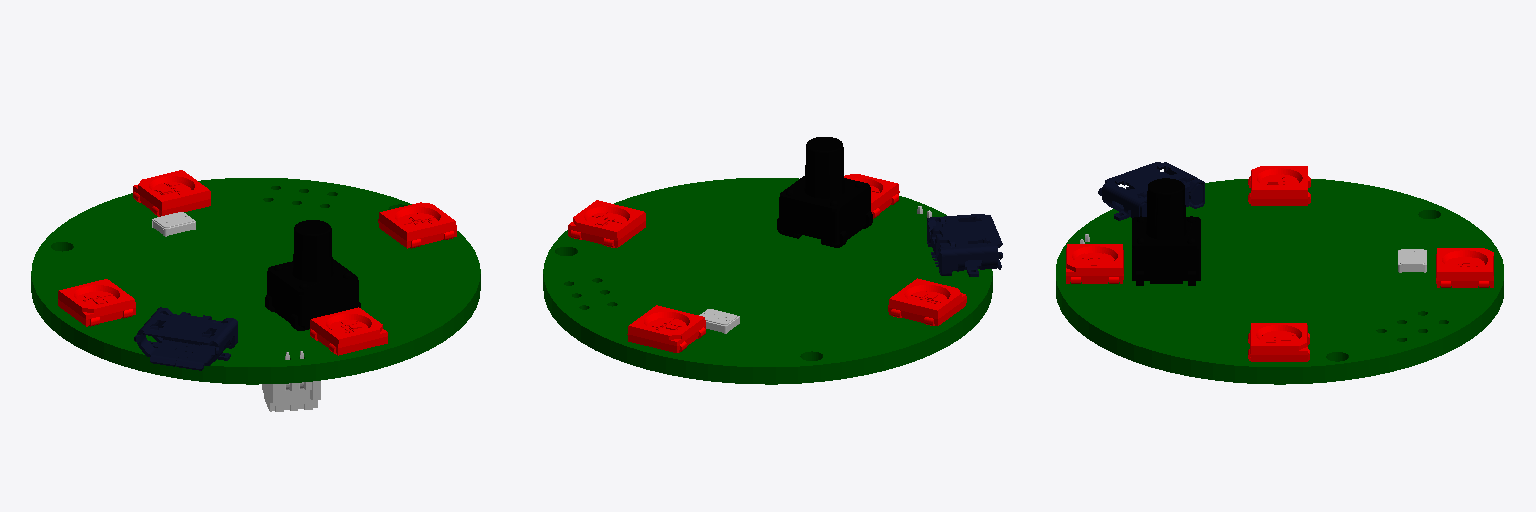
File: ESP.obj
3 renders of one model, left to right at view 1: azimuth 30°, elevation 25°; view 2: azimuth 150°, elevation 25°; view 3: azimuth 270°, elevation 25°, orthographic.
Visible parts, largest first — view 1: ESP_Acc_v1_-_Board_2-1_Open_CASCADE_STEP_translator_6.8_3.1.1_2, ESP_Acc_v1_-_S1_2-1_TL3301CFxxxxJ_2-1_Body1_2-1, ESP_Acc_v1_-_J2_2-1_[number redacted]_2-1, ESP_Acc_v1_-_D1_2-1_ws2812B-1_2-1, ESP_Acc_v1_-_D6_2-1_ws2812B-1_2-1, ESP_Acc_v1_-_D5_2-1_ws2812B-1_2-1, ESP_Acc_v1_-_D4_2-1_ws2812B-1_2-1, ESP_Acc_v1_-_BT1_2-1_[number redacted]_2-1_Open_CASCADE_STEP_translator, ESP_Acc_v1_-_X1_2-1_SMD_3225_Crystal_2-1; view 2: ESP_Acc_v1_-_Board_2-1_Open_CASCADE_STEP_translator_6.8_3.1.1_2, ESP_Acc_v1_-_S1_2-1_TL3301CFxxxxJ_2-1_Body1_2-1, ESP_Acc_v1_-_J2_2-1_[number redacted]_2-1, ESP_Acc_v1_-_D4_2-1_ws2812B-1_2-1, ESP_Acc_v1_-_D5_2-1_ws2812B-1_2-1, ESP_Acc_v1_-_D1_2-1_ws2812B-1_2-1, ESP_Acc_v1_-_D6_2-1_ws2812B-1_2-1, ESP_Acc_v1_-_X1_2-1_SMD_3225_Crystal_2-1; view 3: ESP_Acc_v1_-_Board_2-1_Open_CASCADE_STEP_translator_6.8_3.1.1_2, ESP_Acc_v1_-_S1_2-1_TL3301CFxxxxJ_2-1_Body1_2-1, ESP_Acc_v1_-_J2_2-1_[number redacted]_2-1, ESP_Acc_v1_-_D1_2-1_ws2812B-1_2-1, ESP_Acc_v1_-_D5_2-1_ws2812B-1_2-1, ESP_Acc_v1_-_D6_2-1_ws2812B-1_2-1, ESP_Acc_v1_-_D4_2-1_ws2812B-1_2-1, ESP_Acc_v1_-_X1_2-1_SMD_3225_Crystal_2-1.
Boxes of the visible parts, <box> form: ESP_Acc_v1_-_Board_2-1_Open_CASCADE_STEP_translator_6.8_3.1.1_2: <box>31,178,480,384</box>; ESP_Acc_v1_-_S1_2-1_TL3301CFxxxxJ_2-1_Body1_2-1: <box>265,220,360,330</box>; ESP_Acc_v1_-_J2_2-1_[number redacted]_2-1: <box>134,307,237,370</box>; ESP_Acc_v1_-_D1_2-1_ws2812B-1_2-1: <box>58,279,135,326</box>; ESP_Acc_v1_-_D6_2-1_ws2812B-1_2-1: <box>310,307,387,355</box>; ESP_Acc_v1_-_D5_2-1_ws2812B-1_2-1: <box>378,202,456,248</box>; ESP_Acc_v1_-_D4_2-1_ws2812B-1_2-1: <box>133,170,210,216</box>; ESP_Acc_v1_-_BT1_2-1_[number redacted]_2-1_Open_CASCADE_STEP_translator: <box>262,351,320,411</box>; ESP_Acc_v1_-_X1_2-1_SMD_3225_Crystal_2-1: <box>152,212,195,236</box>; ESP_Acc_v1_-_Board_2-1_Open_CASCADE_STEP_translator_6.8_3.1.1_2: <box>543,178,992,384</box>; ESP_Acc_v1_-_S1_2-1_TL3301CFxxxxJ_2-1_Body1_2-1: <box>777,137,872,247</box>; ESP_Acc_v1_-_J2_2-1_[number redacted]_2-1: <box>927,214,1002,276</box>; ESP_Acc_v1_-_D4_2-1_ws2812B-1_2-1: <box>627,305,705,352</box>; ESP_Acc_v1_-_D5_2-1_ws2812B-1_2-1: <box>568,200,645,247</box>; ESP_Acc_v1_-_D1_2-1_ws2812B-1_2-1: <box>888,278,966,325</box>; ESP_Acc_v1_-_D6_2-1_ws2812B-1_2-1: <box>844,174,899,218</box>; ESP_Acc_v1_-_X1_2-1_SMD_3225_Crystal_2-1: <box>699,309,739,333</box>; ESP_Acc_v1_-_Board_2-1_Open_CASCADE_STEP_translator_6.8_3.1.1_2: <box>1056,179,1503,384</box>; ESP_Acc_v1_-_S1_2-1_TL3301CFxxxxJ_2-1_Body1_2-1: <box>1132,178,1200,285</box>; ESP_Acc_v1_-_J2_2-1_[number redacted]_2-1: <box>1098,162,1204,220</box>; ESP_Acc_v1_-_D1_2-1_ws2812B-1_2-1: <box>1248,166,1310,205</box>; ESP_Acc_v1_-_D5_2-1_ws2812B-1_2-1: <box>1248,323,1309,361</box>; ESP_Acc_v1_-_D6_2-1_ws2812B-1_2-1: <box>1066,244,1123,283</box>; ESP_Acc_v1_-_D4_2-1_ws2812B-1_2-1: <box>1436,248,1493,287</box>; ESP_Acc_v1_-_X1_2-1_SMD_3225_Crystal_2-1: <box>1398,249,1426,272</box>.
Size of the model in its own units: 39 by 13.48 by 38.95.